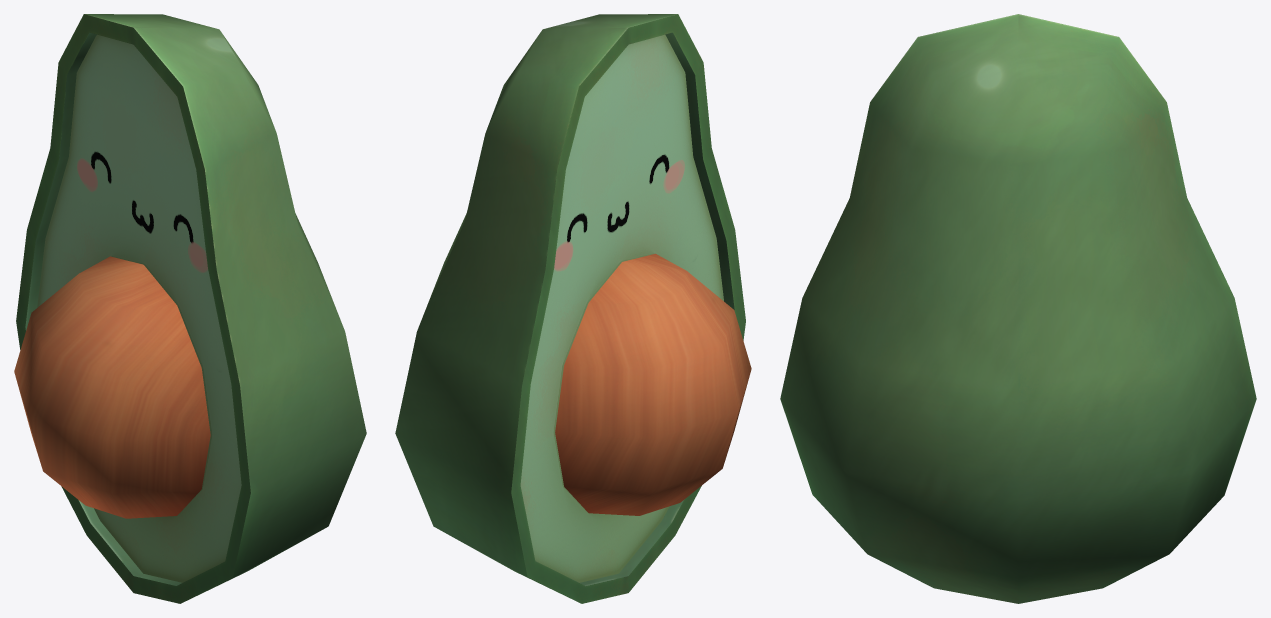
The model's file is avocado.fbx.
The picture shows the model from 3 angles, left to right: view 1: azimuth 30°, elevation 25°; view 2: azimuth 150°, elevation 25°; view 3: azimuth 270°, elevation 25°; orthographic projection.
Visible parts, largest first — view 1: Avocado; view 2: Avocado; view 3: Avocado.
Part boxes in pixels (bbox=[...]): Avocado: bbox=[14, 14, 366, 603]; Avocado: bbox=[395, 14, 751, 603]; Avocado: bbox=[780, 14, 1256, 603].
Size of the model in its own units: 83.44 by 145 by 109.
